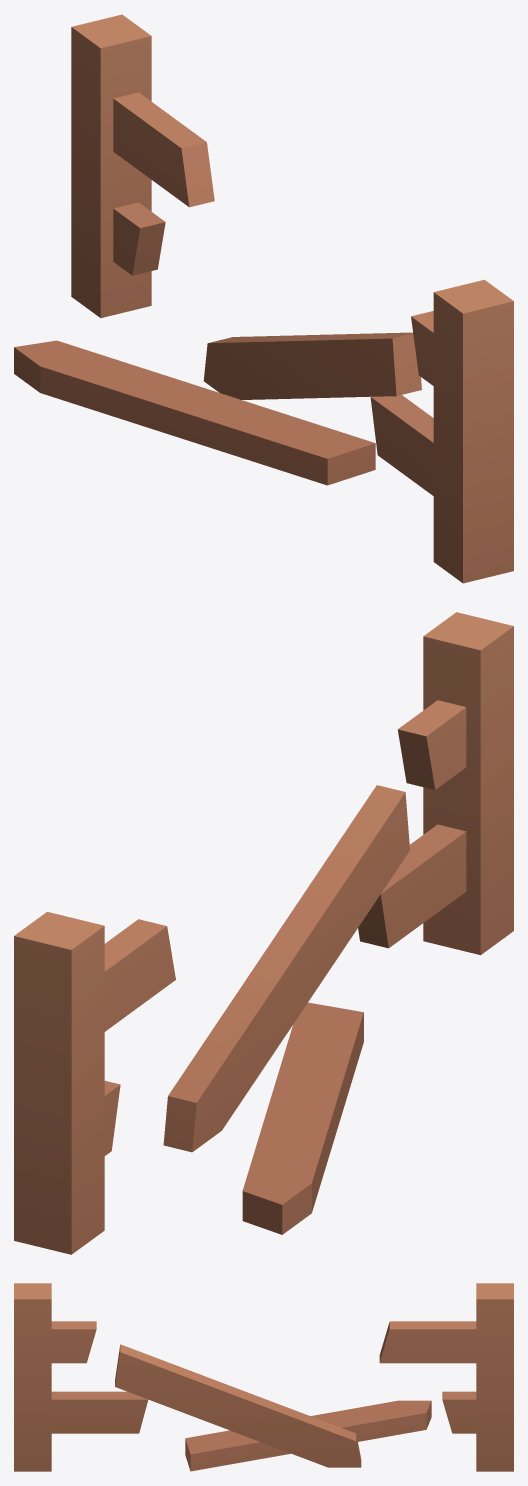
The model's file is fence-broken.glb.
The picture shows the model from 3 angles, top to bottom: view 1: azimuth 30°, elevation 25°; view 2: azimuth 150°, elevation 25°; view 3: azimuth 270°, elevation 25°; orthographic projection. The views are drawn at different scales.
Parts seen in each view (by area): view 1: fence-broken; view 2: fence-broken; view 3: fence-broken.
Boxes of the visible parts, x1,y1,x2,y2 form: fence-broken: (14, 14, 513, 583); fence-broken: (14, 612, 513, 1254); fence-broken: (14, 1283, 513, 1471).
Bounding box in the file's own units: 0.2548 × 0.38 × 1.
1 material, 1 textured.
